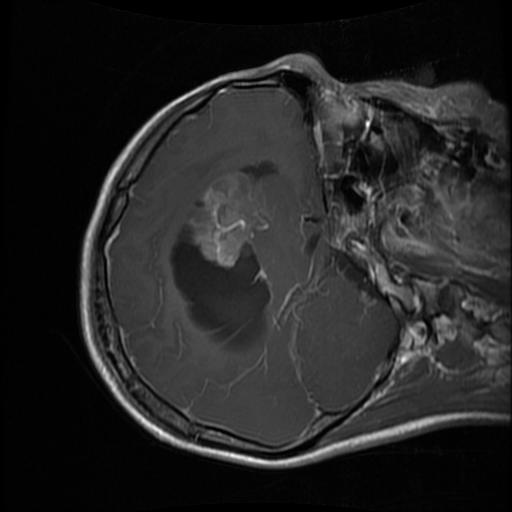glioma: (167, 165, 281, 353)
